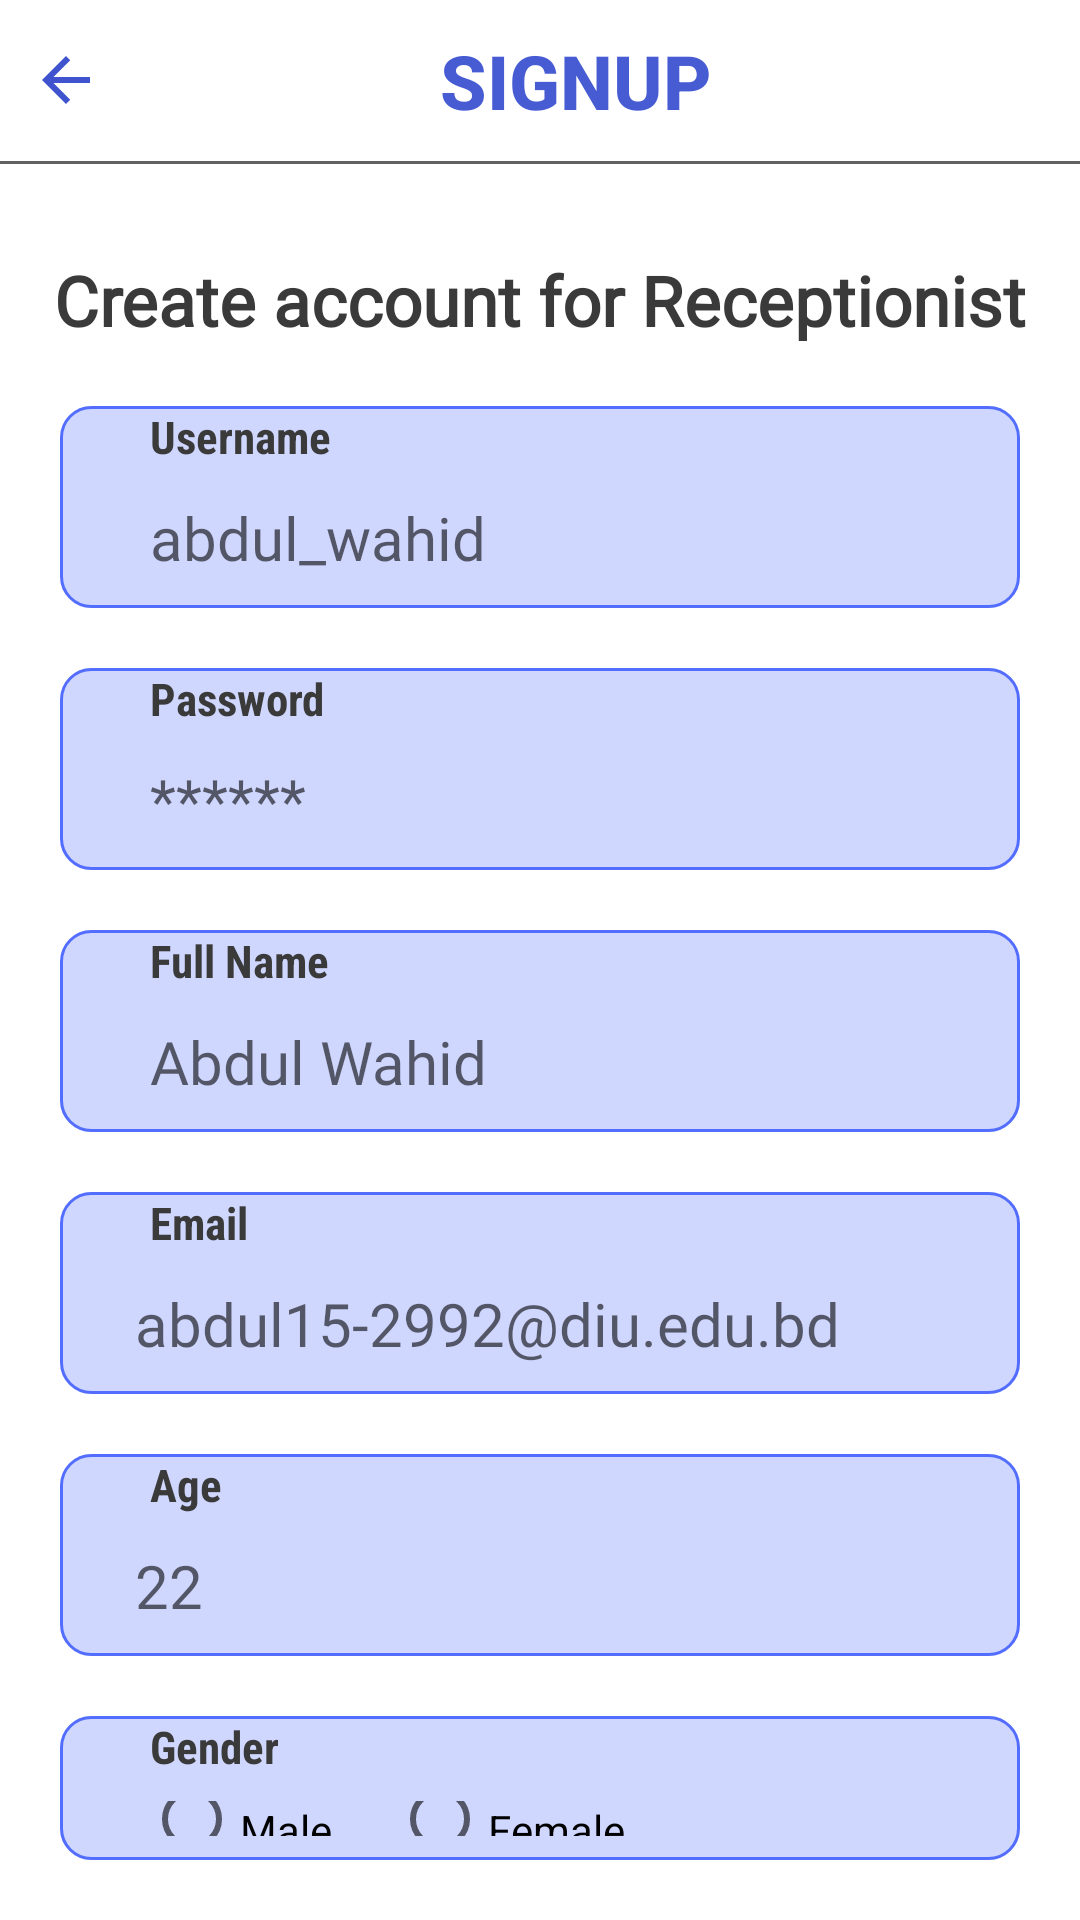

Where icons sit on this 1080 × 1920 app screen, as bbox(x1, y1, x2, y2):
arrow back: bbox(42, 56, 90, 104)
